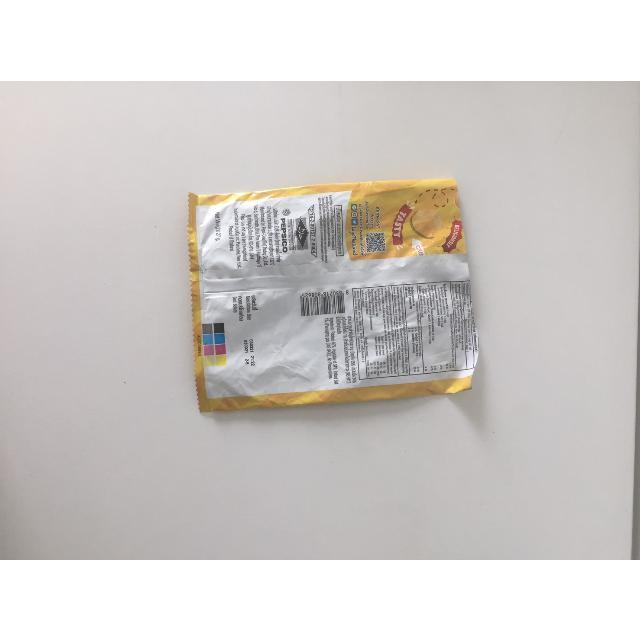Paquete de plastico: (187, 180, 482, 415)
